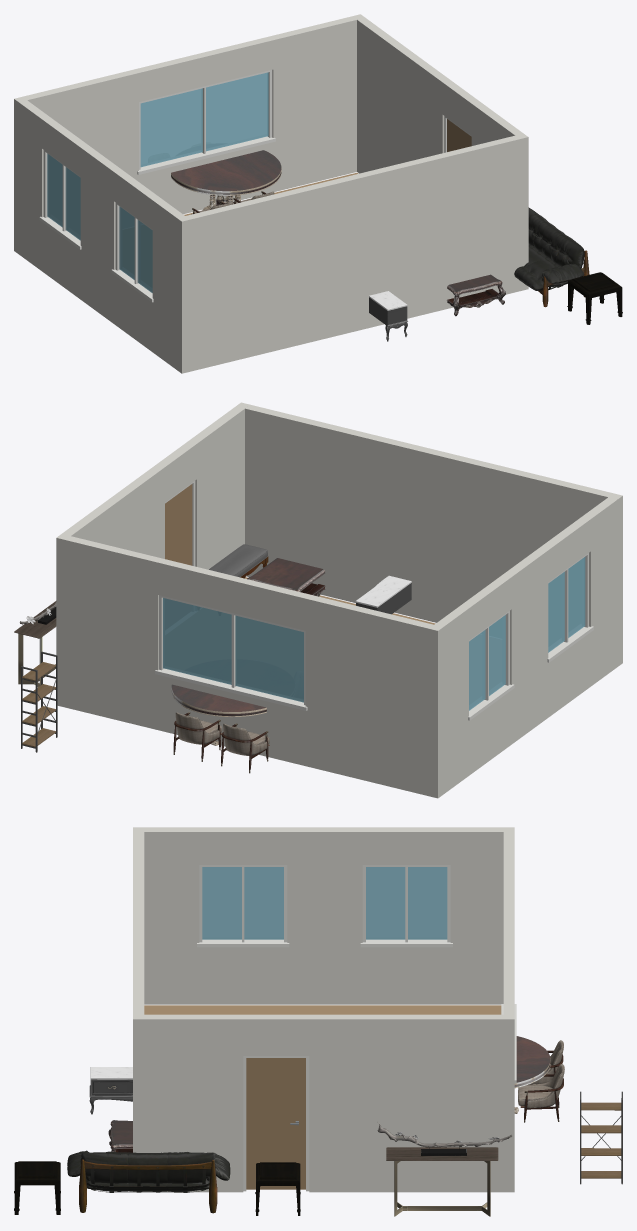
File: diffuscene.glb
3 views of the same model, one above another, from view 1: azimuth 30°, elevation 25°; view 2: azimuth 150°, elevation 25°; view 3: azimuth 270°, elevation 25° (orthographic). The views are drawn at different scales.
Parts seen in each view (by area): view 1: wall|scenesmith_067__R00|0, wall|scenesmith_067__R00|1, wall|scenesmith_067__R00|2, wall|scenesmith_067__R00|3, wall|scenesmith_067__R00|1 Window 0 | glazing, wall|scenesmith_067__R00|2 Window 0 | glazing, raw_model.005, solid_001, wall|scenesmith_067__R00|2 Window 0 | jamb, wall|scenesmith_067__R00|1 Window 0 | jamb, solid_001.001, raw_model.006 (+2 smaller); view 2: wall|scenesmith_067__R00|1, wall|scenesmith_067__R00|0, wall|scenesmith_067__R00|2, wall|scenesmith_067__R00|3, wall|scenesmith_067__R00|1 Window 0 | glazing, wall|scenesmith_067__R00|2 Window 0 | glazing, raw_model, wall|scenesmith_067__R00|1 Window 0 | jamb, wall|scenesmith_067__R00|2 Window 0 | jamb, raw_model.001, wall|scenesmith_067__R00|3 Door 0 | wood leaf, solid_001.001 (+4 smaller); view 3: wall|scenesmith_067__R00|3, wall|scenesmith_067__R00|2, wall|scenesmith_067__R00|2 Window 0 | glazing, wall|scenesmith_067__R00|3 Door 0 | wood leaf, raw_model.005, floor, wall|scenesmith_067__R00|2 Window 0 | jamb, raw_model.003, raw_model.006, wall|scenesmith_067__R00|0, wall|scenesmith_067__R00|1, raw_model (+5 smaller).
Boxes of the visible parts, x1=… form: wall|scenesmith_067__R00|0: x1=177, y1=135, x2=528, y2=373; wall|scenesmith_067__R00|1: x1=14, y1=16, x2=356, y2=214; wall|scenesmith_067__R00|2: x1=14, y1=99, x2=190, y2=373; wall|scenesmith_067__R00|3: x1=352, y1=14, x2=527, y2=173; wall|scenesmith_067__R00|1 Window 0 | glazing: x1=140, y1=72, x2=268, y2=167; wall|scenesmith_067__R00|2 Window 0 | glazing: x1=47, y1=153, x2=152, y2=292; raw_model.005: x1=514, y1=207, x2=589, y2=307; solid_001: x1=171, y1=150, x2=281, y2=210; wall|scenesmith_067__R00|2 Window 0 | jamb: x1=39, y1=150, x2=153, y2=302; wall|scenesmith_067__R00|1 Window 0 | jamb: x1=137, y1=70, x2=275, y2=174; solid_001.001: x1=447, y1=274, x2=505, y2=316; raw_model.006: x1=567, y1=272, x2=622, y2=324; wall|scenesmith_067__R00|1: x1=65, y1=536, x2=442, y2=796; wall|scenesmith_067__R00|0: x1=245, y1=404, x2=622, y2=622; wall|scenesmith_067__R00|2: x1=429, y1=496, x2=622, y2=798; wall|scenesmith_067__R00|3: x1=56, y1=402, x2=249, y2=707; wall|scenesmith_067__R00|1 Window 0 | glazing: x1=163, y1=598, x2=303, y2=702; wall|scenesmith_067__R00|2 Window 0 | glazing: x1=469, y1=557, x2=585, y2=710; raw_model: x1=173, y1=712, x2=269, y2=773; wall|scenesmith_067__R00|1 Window 0 | jamb: x1=155, y1=595, x2=307, y2=710; wall|scenesmith_067__R00|2 Window 0 | jamb: x1=468, y1=553, x2=593, y2=720; raw_model.001: x1=21, y1=651, x2=57, y2=752; wall|scenesmith_067__R00|3 Door 0 | wood leaf: x1=165, y1=484, x2=192, y2=565; solid_001.001: x1=247, y1=558, x2=325, y2=596; wall|scenesmith_067__R00|3: x1=133, y1=1014, x2=514, y2=1192; wall|scenesmith_067__R00|2: x1=144, y1=827, x2=503, y2=1004; wall|scenesmith_067__R00|2 Window 0 | glazing: x1=202, y1=867, x2=447, y2=939; wall|scenesmith_067__R00|3 Door 0 | wood leaf: x1=246, y1=1058, x2=305, y2=1189; raw_model.005: x1=67, y1=1150, x2=230, y2=1213; floor: x1=144, y1=1005, x2=501, y2=1014; wall|scenesmith_067__R00|2 Window 0 | jamb: x1=197, y1=865, x2=452, y2=947; raw_model.003: x1=377, y1=1122, x2=512, y2=1216; raw_model.006: x1=14, y1=1161, x2=300, y2=1215; wall|scenesmith_067__R00|0: x1=133, y1=827, x2=144, y2=1014; wall|scenesmith_067__R00|1: x1=503, y1=827, x2=514, y2=1014; raw_model: x1=518, y1=1040, x2=564, y2=1122.
Bounding box in the file's own units: 7.05 × 2.61 × 8.3.
15 materials, 9 textured.
